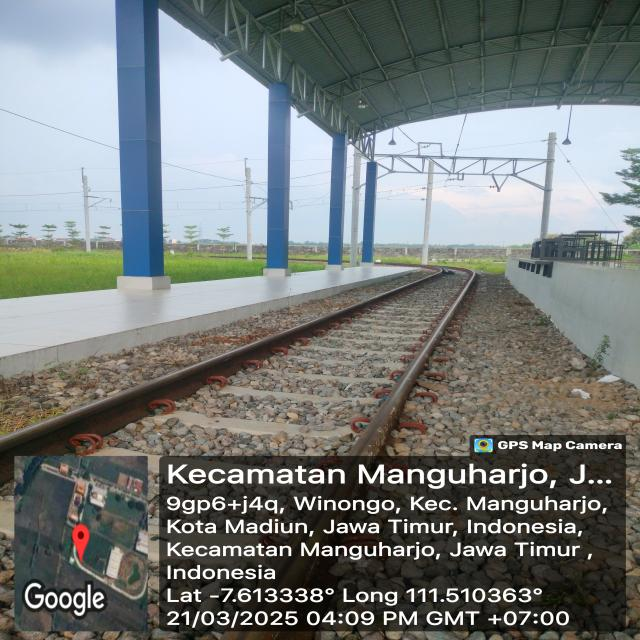rail-detection: (0, 268, 457, 484), (350, 268, 475, 456)
